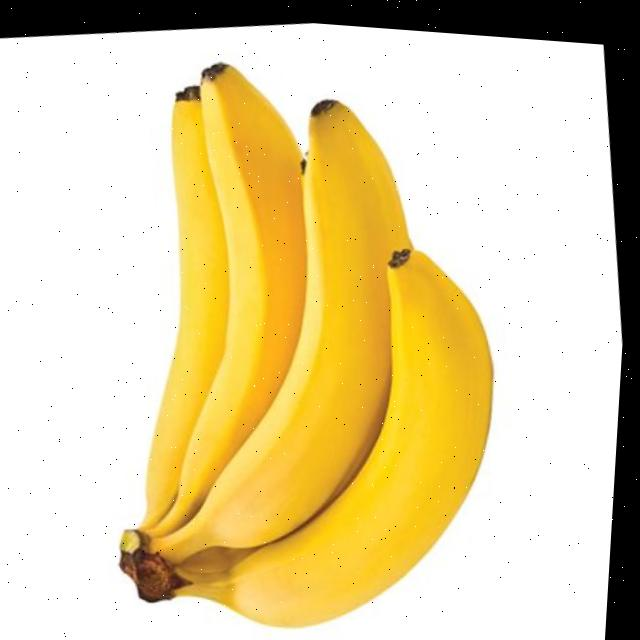Banana: (184, 242, 493, 621), (157, 97, 409, 560), (152, 59, 308, 531), (147, 82, 232, 526)
